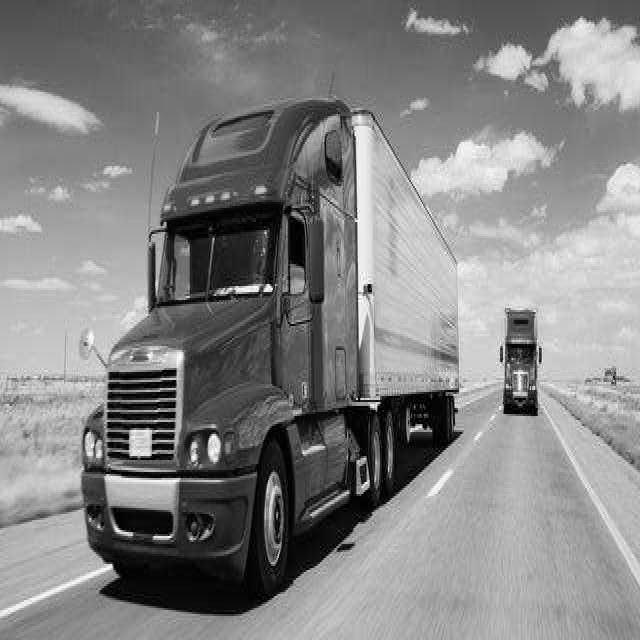Truck: (81, 95, 459, 595), (504, 307, 541, 414)
